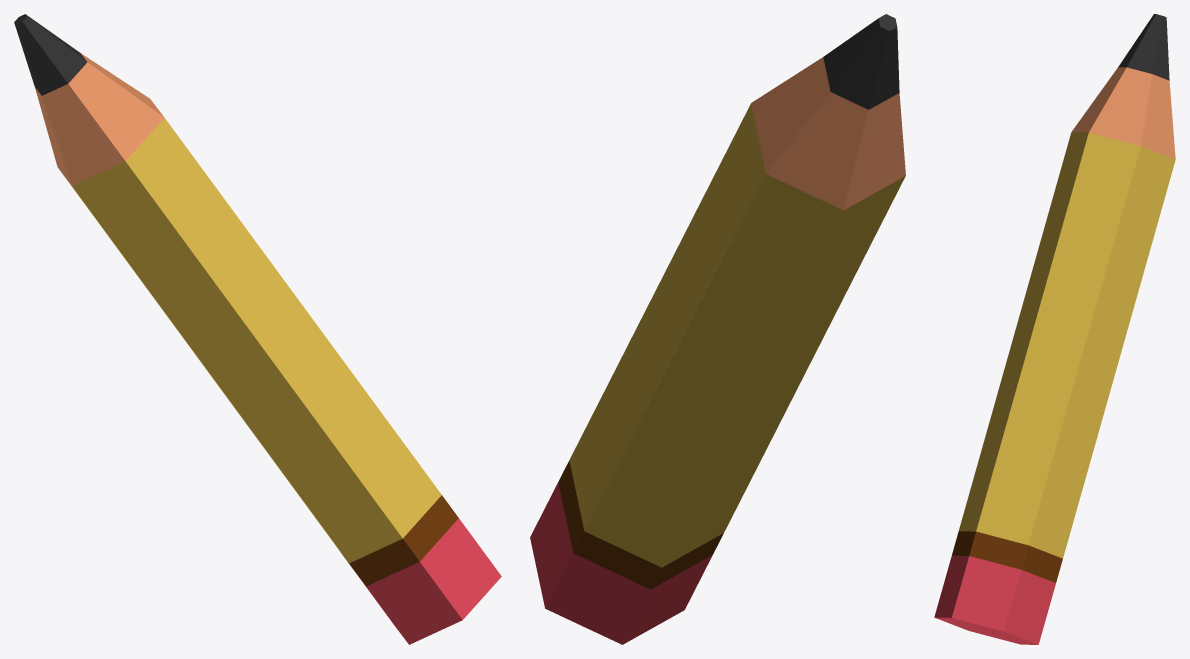
File: pencil.fbx
3 views of the same model, side by side, from view 1: azimuth 30°, elevation 25°; view 2: azimuth 150°, elevation 25°; view 3: azimuth 270°, elevation 25° (orthographic). The views are drawn at different scales.
Parts seen in each view (by area): view 1: pencil; view 2: pencil; view 3: pencil.
Boxes of the visible parts, bbox=[...] form: pencil: bbox=[14, 14, 501, 644]; pencil: bbox=[530, 14, 905, 644]; pencil: bbox=[934, 14, 1175, 644].
Size of the model in its own units: 154 by 241 by 102.
